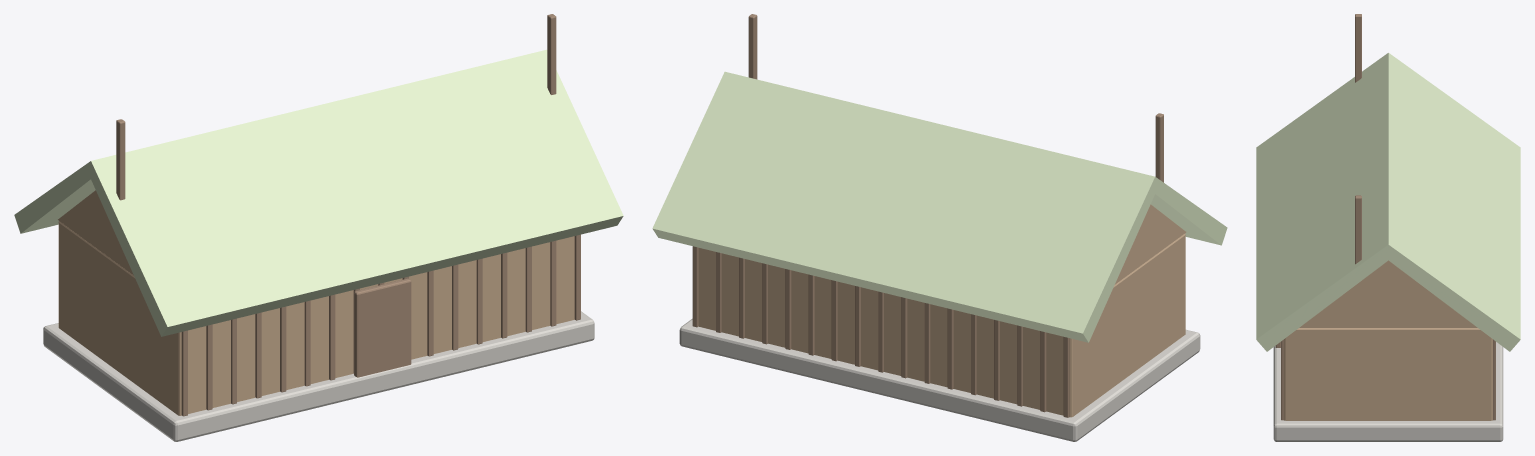
The model's file is lm_nordico_longhouse.glb.
The picture shows the model from 3 angles, left to right: view 1: azimuth 30°, elevation 25°; view 2: azimuth 150°, elevation 25°; view 3: azimuth 270°, elevation 25°; orthographic projection. The views are drawn at different scales.
Visible parts, largest first — view 1: lm_nordico_longhouse; view 2: lm_nordico_longhouse; view 3: lm_nordico_longhouse.
Boxes of the visible parts, x1,y1,x2,y2 form: lm_nordico_longhouse: (14, 14, 623, 441); lm_nordico_longhouse: (652, 14, 1227, 441); lm_nordico_longhouse: (1256, 14, 1520, 441).
Size of the model in its own units: 9.1 by 5.5 by 5.3.
